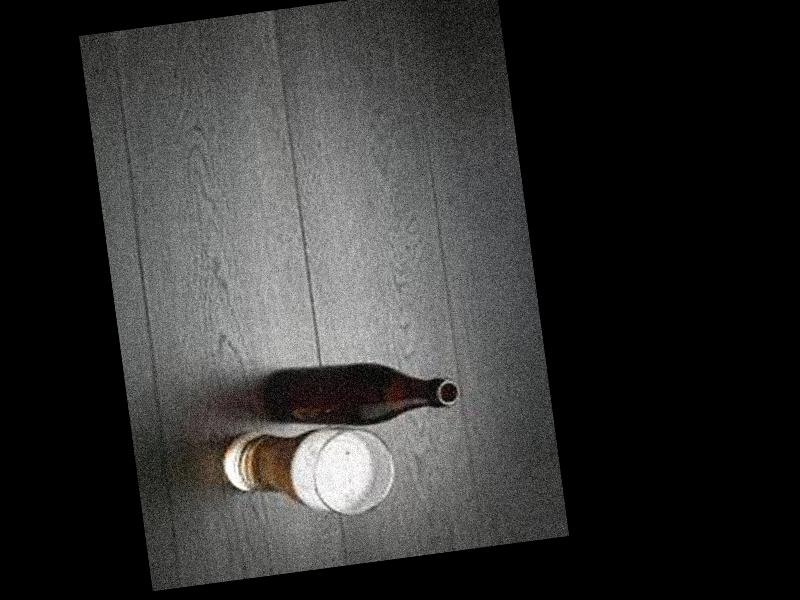Beer: (255, 345, 464, 440)
